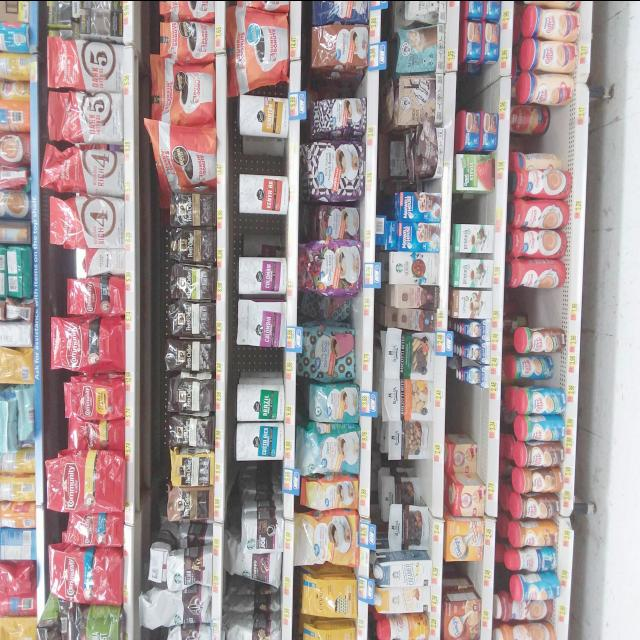empty_space: (507, 289, 557, 321), (448, 394, 485, 432), (239, 217, 285, 247), (236, 349, 280, 377), (243, 463, 281, 493), (467, 66, 498, 102), (244, 143, 288, 161), (544, 113, 569, 139), (453, 565, 481, 587), (459, 195, 489, 213)
